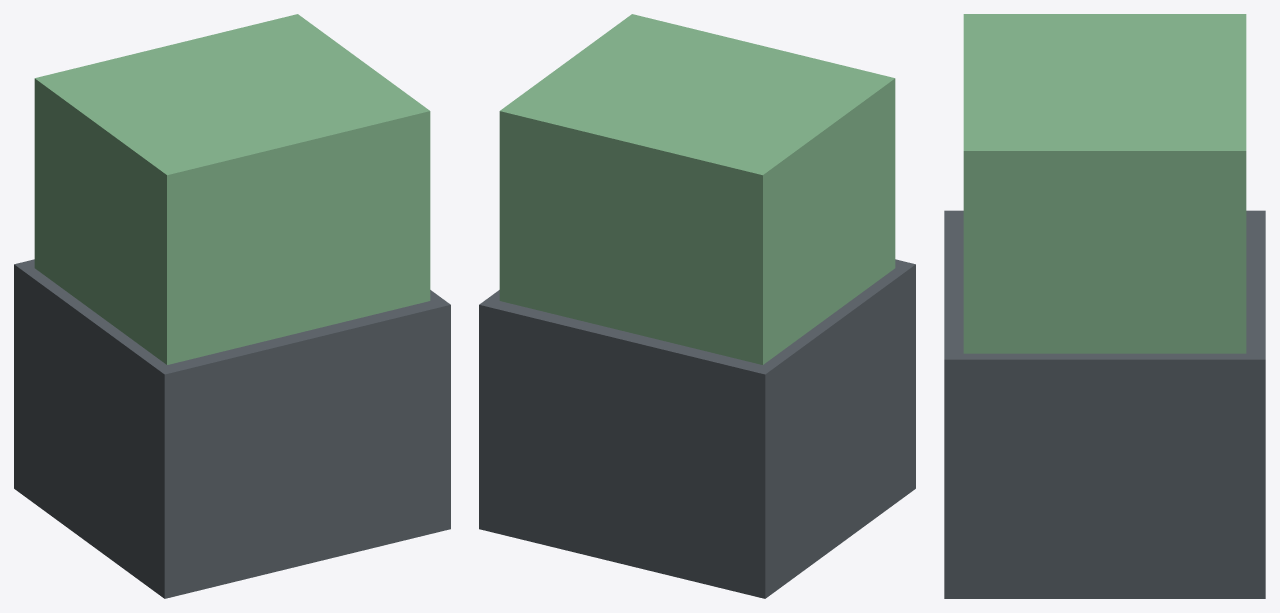
Rendered from print___utility_office_asset_library_26.glb.
3 views of the same model, side by side, from view 1: azimuth 30°, elevation 25°; view 2: azimuth 150°, elevation 25°; view 3: azimuth 270°, elevation 25° (orthographic). The views are drawn at different scales.
Visible parts, largest first — view 1: Cube; view 2: Cube; view 3: Cube.
Boxes of the visible parts, box(x1,y1,x2,y2) form: Cube: box(14, 14, 450, 598); Cube: box(479, 14, 915, 598); Cube: box(944, 14, 1265, 598).
Bounding box in the file's own units: 0.7083 × 0.98 × 0.6458.
